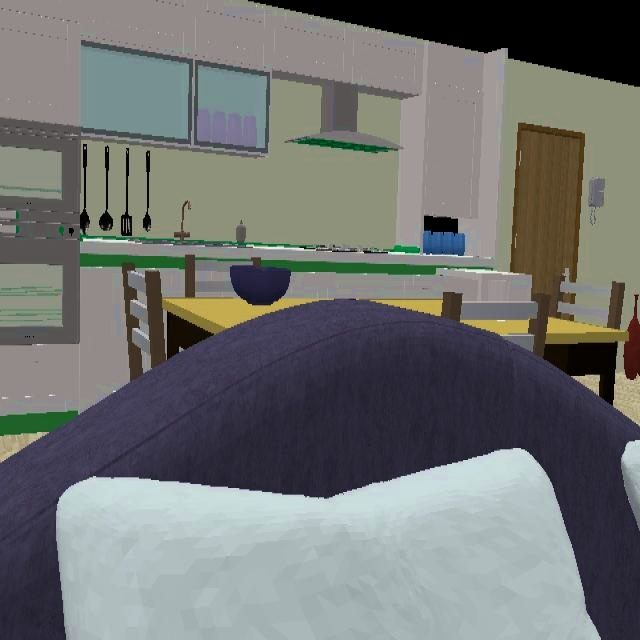cabinet: (0, 0, 482, 216)
chair: (441, 293, 549, 356), (123, 263, 166, 379), (550, 268, 625, 328), (185, 255, 250, 296), (250, 257, 261, 266)
countertop: (80, 238, 495, 274)
microwave: (0, 118, 80, 224)
oven: (0, 224, 79, 344)
pillow: (56, 448, 599, 638)
sink: (174, 200, 191, 242)
sofa: (0, 300, 640, 638)
stove: (300, 243, 387, 252)
table: (162, 298, 316, 358), (547, 318, 629, 401), (461, 320, 528, 335), (375, 300, 442, 314)
